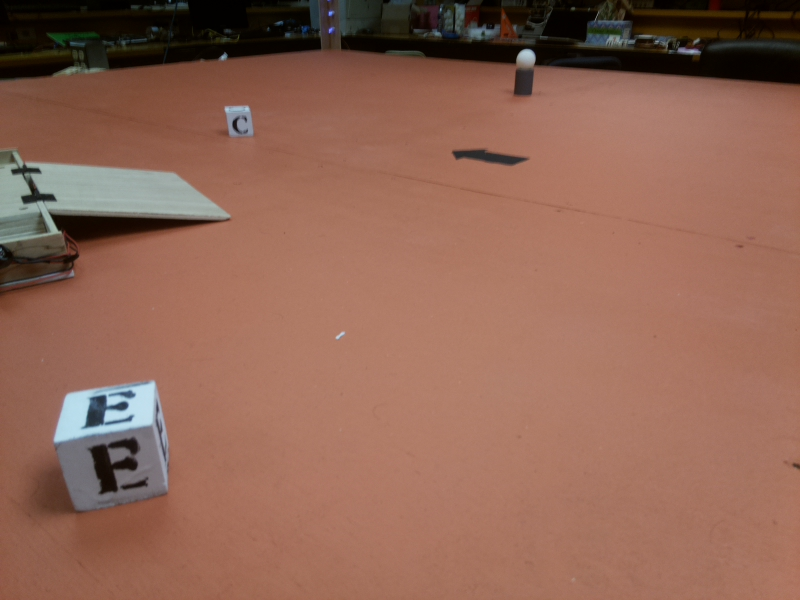blockC: (225, 105, 263, 140)
blockE: (57, 386, 179, 514)
corner: (315, 1, 352, 53)
obstacle: (514, 49, 541, 101)
side: (1, 210, 86, 292)
slope: (38, 156, 237, 227)
start: (451, 143, 533, 171)
